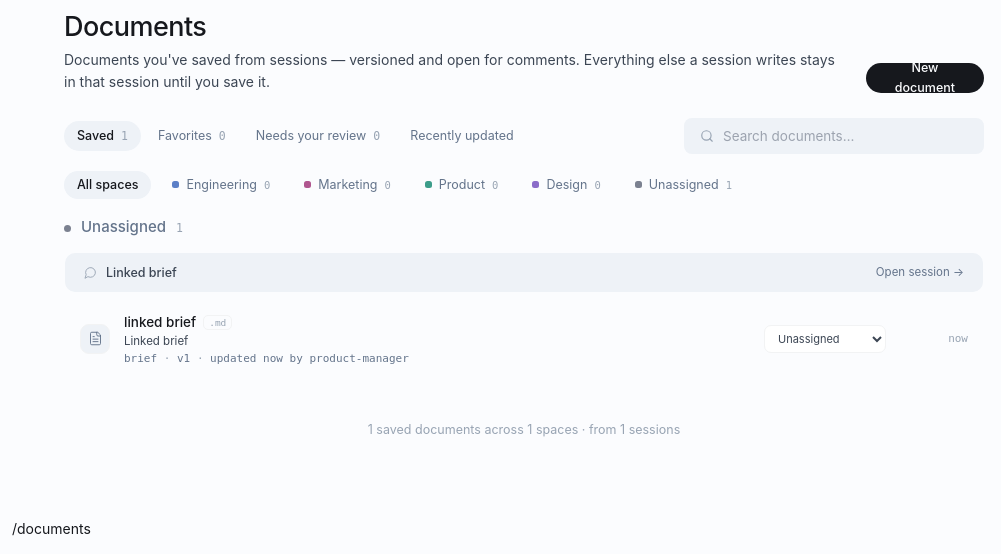
DocumentsPage › routes chat documents to ChatPage with the linked document payload
Click the button "linked brief" at (160, 322), box [80, 312, 750, 365]
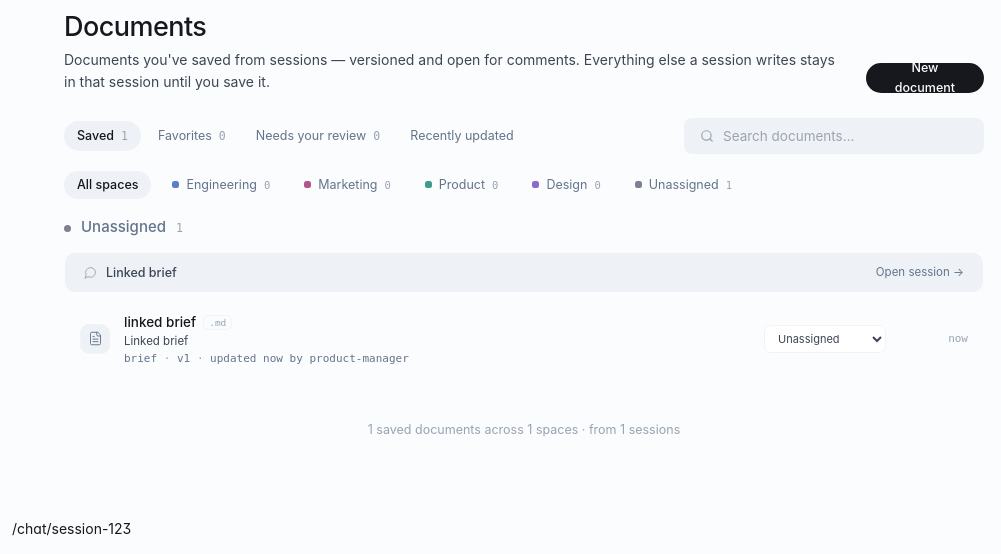
Check: the text with test id "location" reads "/chat/session-123", box [12, 520, 131, 537]
